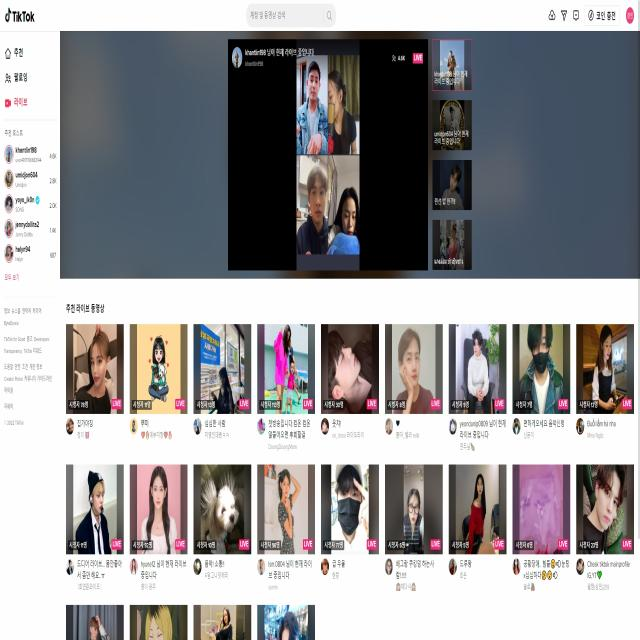menu-bar: (546, 5, 634, 25)
menu-panel: (1, 33, 58, 300)
search: (245, 1, 338, 24)
